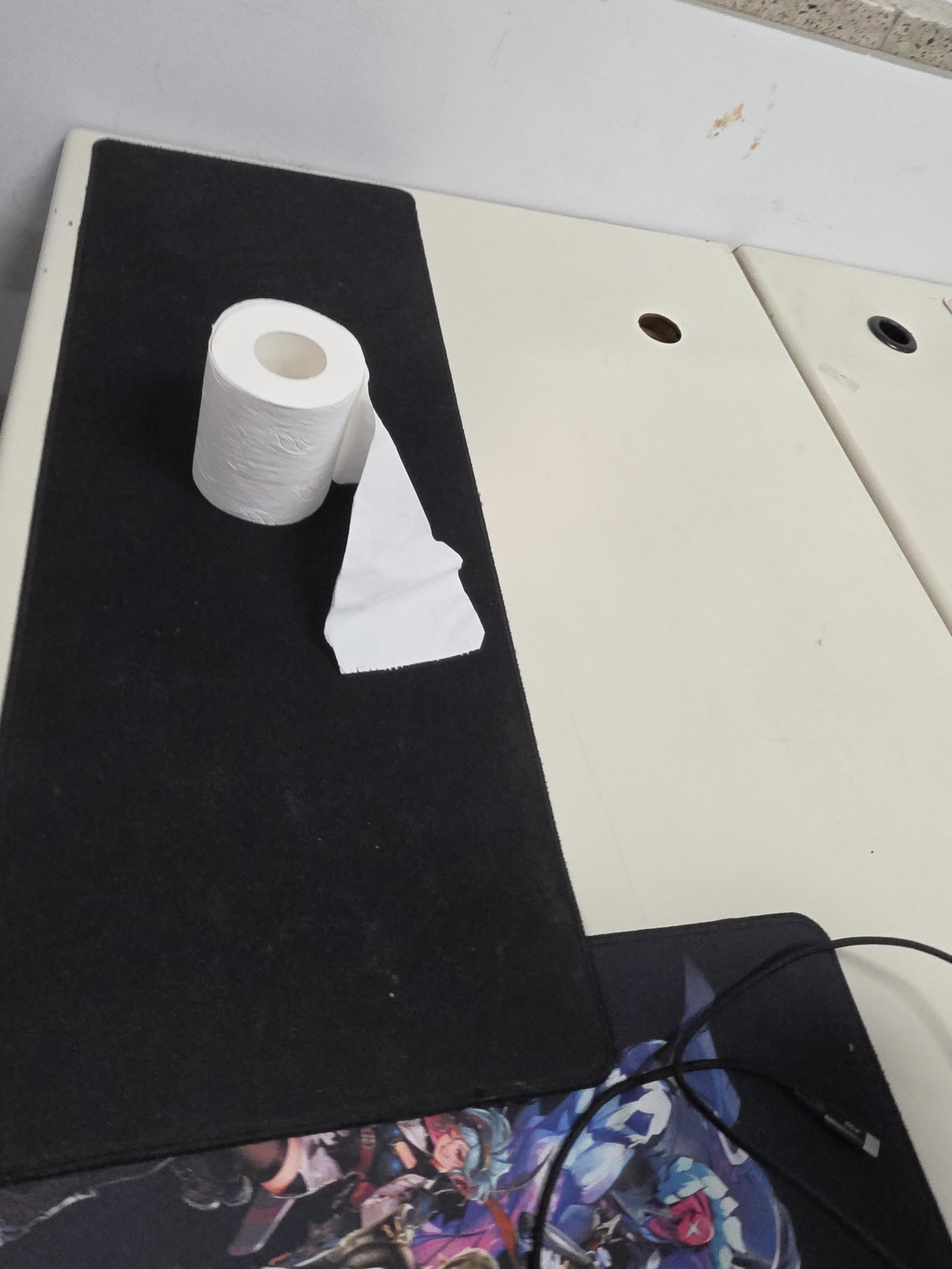tissue: (192, 298, 485, 674)
